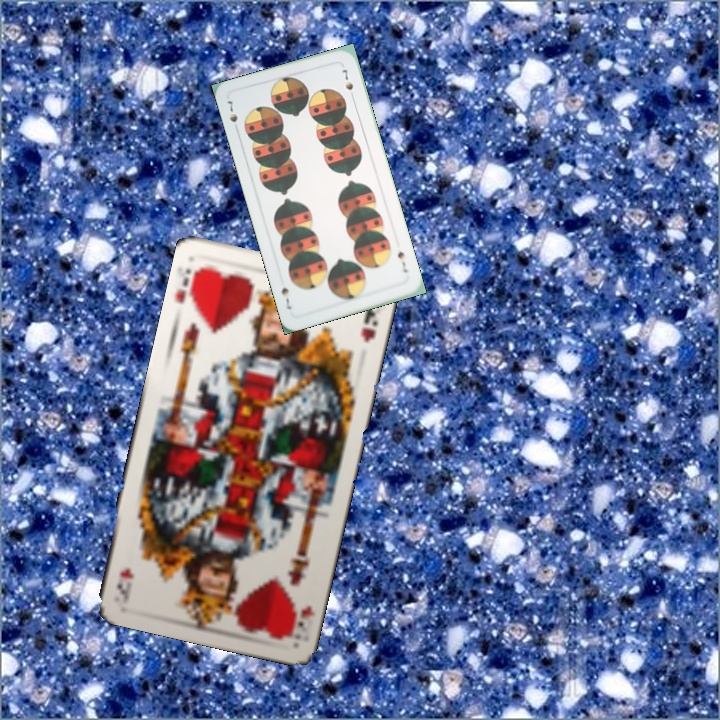HK: (171, 263, 206, 315), (284, 599, 317, 642)
S7: (223, 96, 240, 125), (394, 247, 411, 275)
